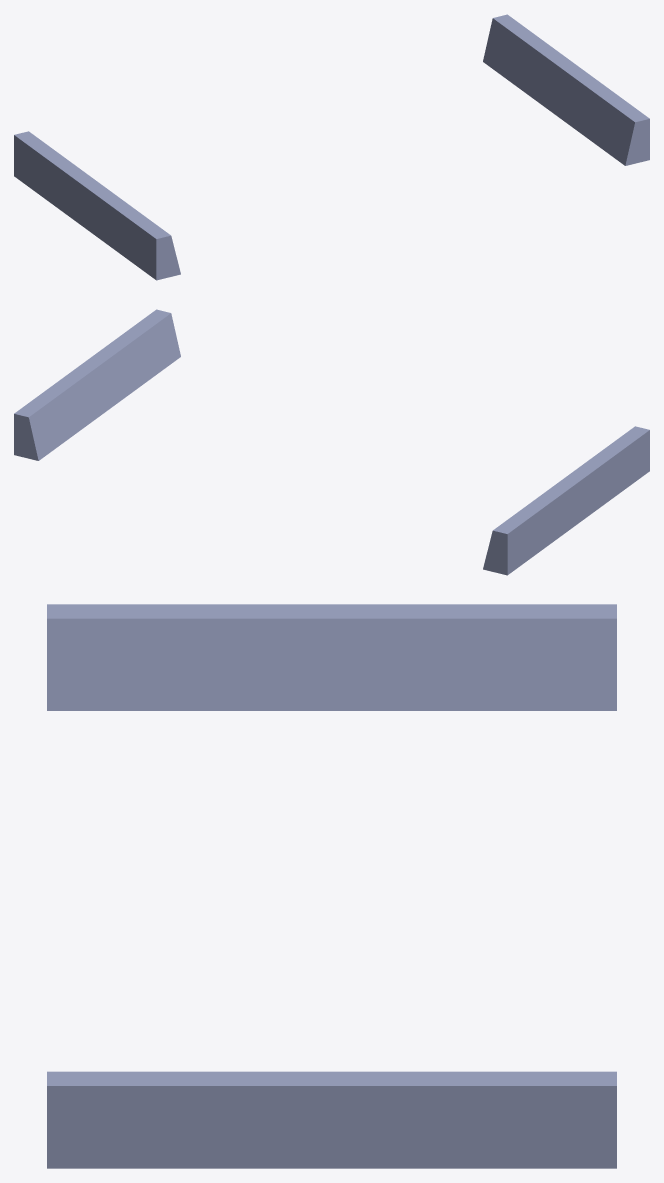
File: road-straight-barrier-half.glb
The picture shows the model from 3 angles, top to bottom: view 1: azimuth 30°, elevation 25°; view 2: azimuth 150°, elevation 25°; view 3: azimuth 270°, elevation 25°; orthographic projection. The views are drawn at different scales.
Visible parts, largest first — view 1: road-straight-barrier-half; view 2: road-straight-barrier-half; view 3: road-straight-barrier-half.
Part boxes in pixels (x1,y1,x2,y2): road-straight-barrier-half: (14, 14, 649, 280); road-straight-barrier-half: (14, 309, 649, 575); road-straight-barrier-half: (47, 604, 616, 1168).
Size of the model in its own units: 1 by 0.08 by 0.5.
Materials: 1 (1 with a texture image).
